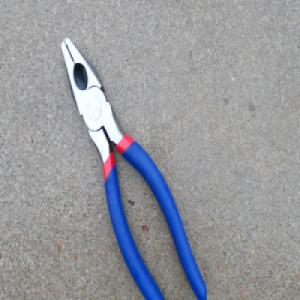Pliers: (60, 35, 208, 300)
